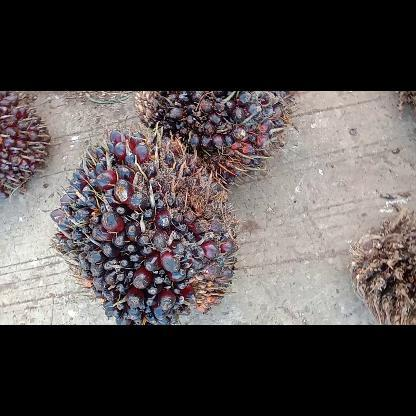TBS mentah: (51, 128, 238, 324), (136, 91, 291, 185), (1, 90, 50, 198)
